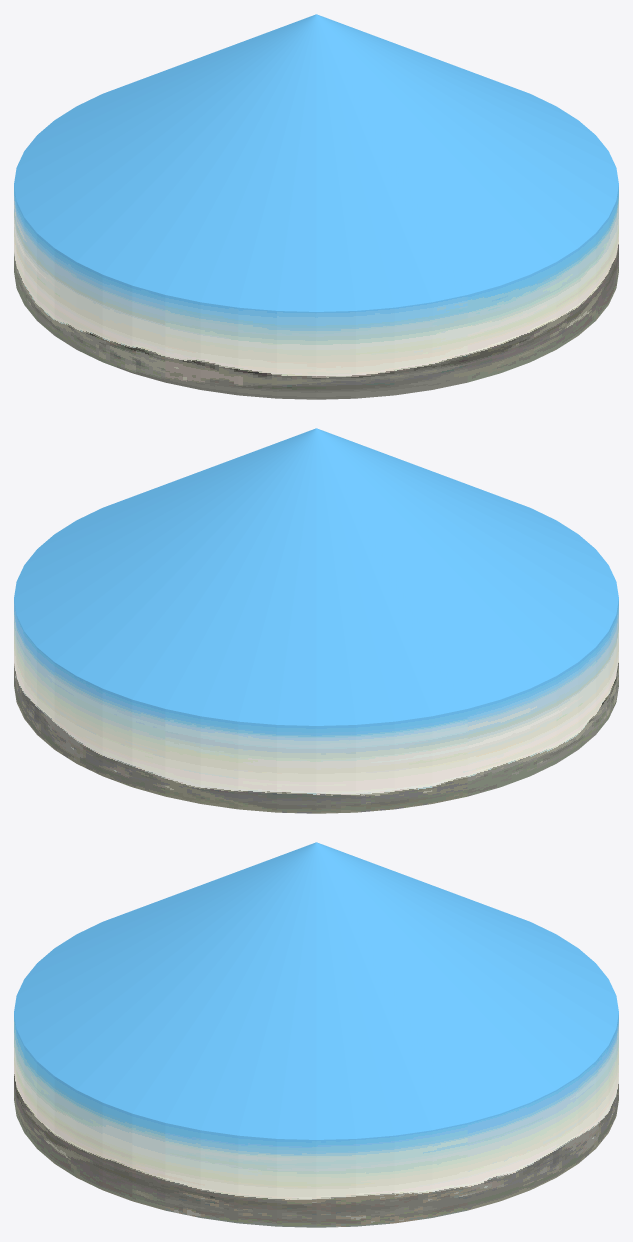
The model's file is sky-cy1.glb.
3 views of the same model, one above another, from view 1: azimuth 30°, elevation 25°; view 2: azimuth 150°, elevation 25°; view 3: azimuth 270°, elevation 25° (orthographic).
Parts seen in each view (by area): view 1: sky-cy1; view 2: sky-cy1; view 3: sky-cy1.
Boxes of the visible parts, box(x1,y1,x2,y2) form: sky-cy1: box(14, 14, 618, 399); sky-cy1: box(14, 428, 618, 813); sky-cy1: box(14, 842, 618, 1227).
Size of the model in its own units: 2 by 1.4 by 2.
4 materials, 4 textured.
